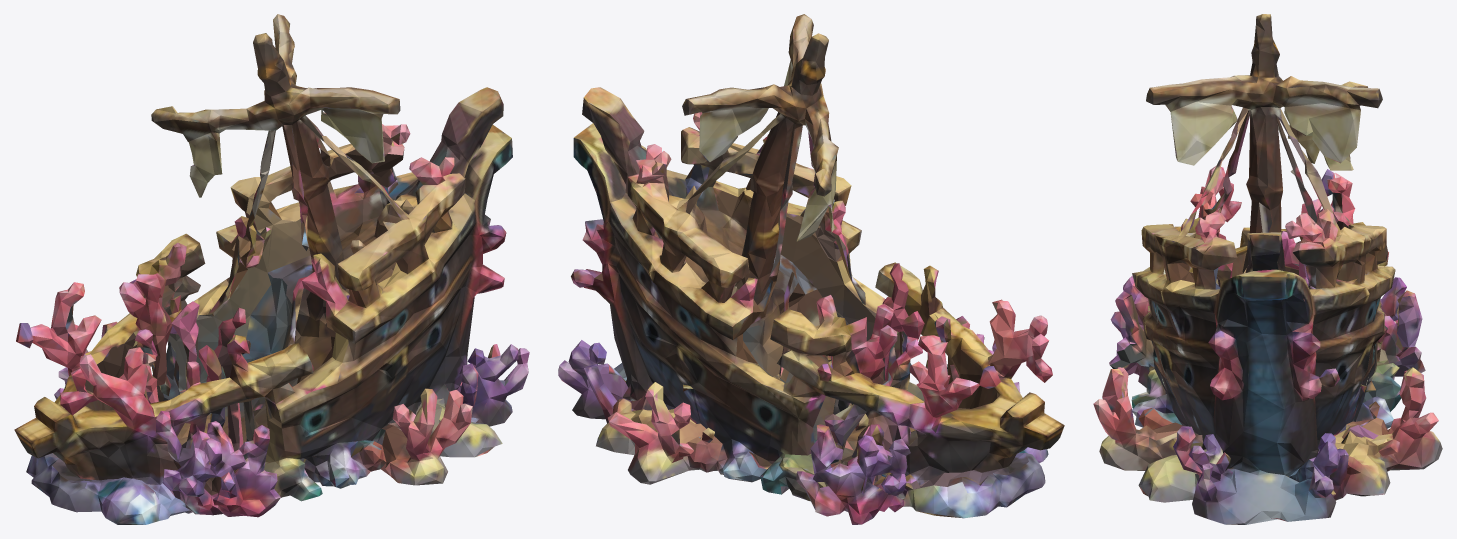
Rendered from sea_ruined_ship_1117.glb.
3 views of the same model, side by side, from view 1: azimuth 30°, elevation 25°; view 2: azimuth 150°, elevation 25°; view 3: azimuth 270°, elevation 25° (orthographic). The views are drawn at different scales.
Visible parts, largest first — view 1: tmp0hedqvtn.ply; view 2: tmp0hedqvtn.ply; view 3: tmp0hedqvtn.ply.
Boxes of the visible parts, x1,y1,x2,y2 form: tmp0hedqvtn.ply: (14,14,529,524); tmp0hedqvtn.ply: (558,14,1064,524); tmp0hedqvtn.ply: (1093,14,1442,524).
Size of the model in its own units: 1.99 by 1.67 by 1.29.
1 material, 1 textured.
